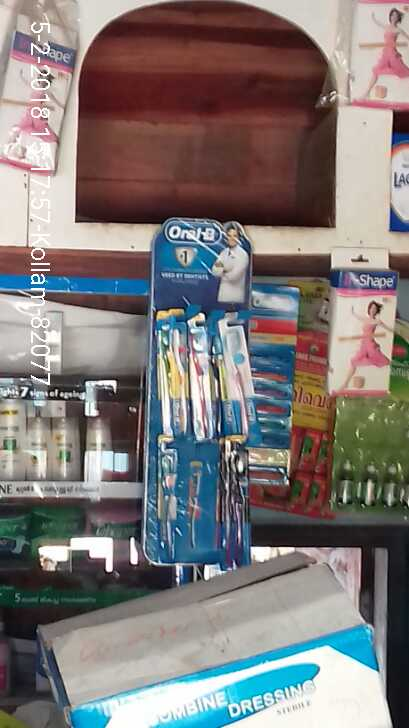oralb: (187, 314, 226, 446), (222, 319, 261, 438), (172, 320, 188, 446)
